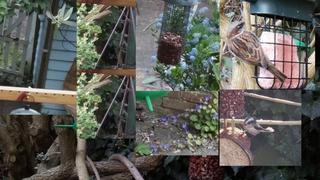long tailed tit: (240, 116, 275, 140)
sparrow: (226, 21, 288, 83)
